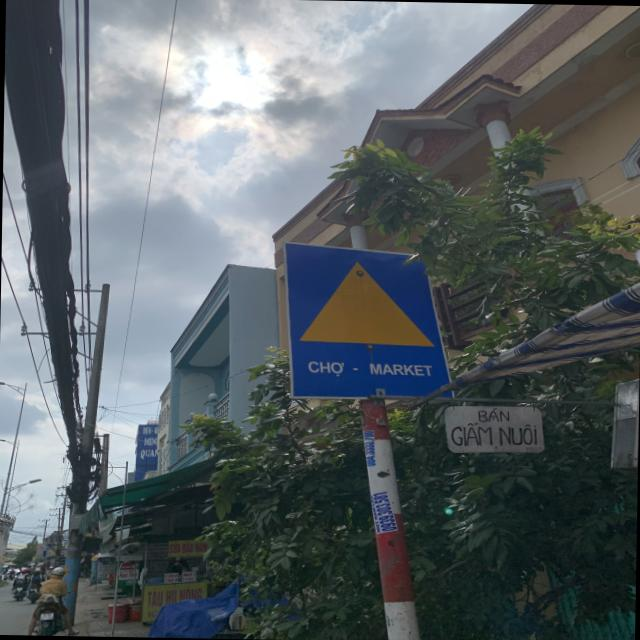Cho_Quay_Xe: (279, 240, 450, 398)
